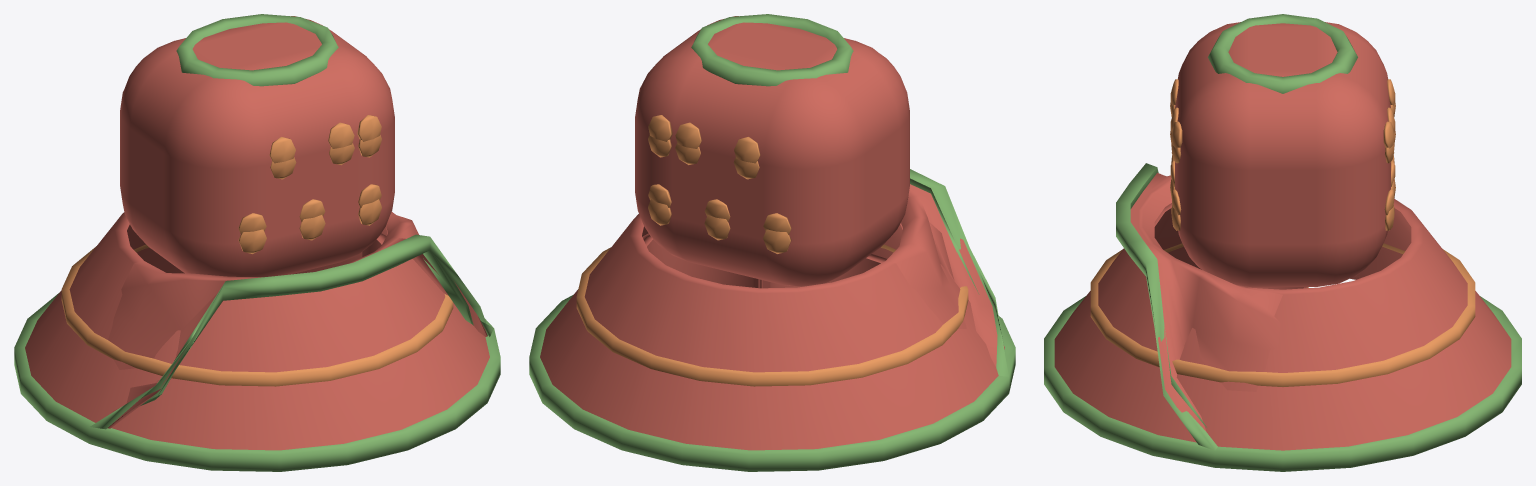
File: cherry_dress.glb
The picture shows the model from 3 angles, left to right: view 1: azimuth 30°, elevation 25°; view 2: azimuth 150°, elevation 25°; view 3: azimuth 270°, elevation 25°; orthographic projection.
Visible parts, largest first — view 1: cherry_dress_Body, cherry_dress_Body_sit; view 2: cherry_dress_Body, cherry_dress_Body_sit, cherry_dress_LegR_sit, cherry_dress_LegL_sit; view 3: cherry_dress_Body, cherry_dress_Body_sit.
Boxes of the visible parts, x1,y1,x2,y2 form: cherry_dress_Body: (14, 14, 500, 471); cherry_dress_Body_sit: (90, 46, 493, 429); cherry_dress_Body: (529, 14, 1015, 471); cherry_dress_Body_sit: (635, 44, 1008, 376); cherry_dress_LegR_sit: (642, 233, 762, 288); cherry_dress_LegL_sit: (758, 254, 886, 288); cherry_dress_Body: (1044, 14, 1521, 471); cherry_dress_Body_sit: (1116, 79, 1397, 450).
Size of the model in its own units: 0.648 by 0.5289 by 0.6414.
